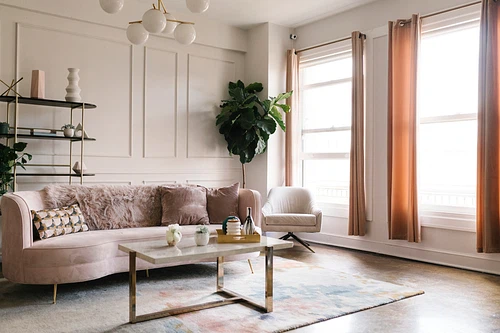chair: (261, 183, 322, 254)
large plant: (214, 79, 294, 188)
sofa: (0, 180, 263, 304)
table: (115, 234, 295, 322)
